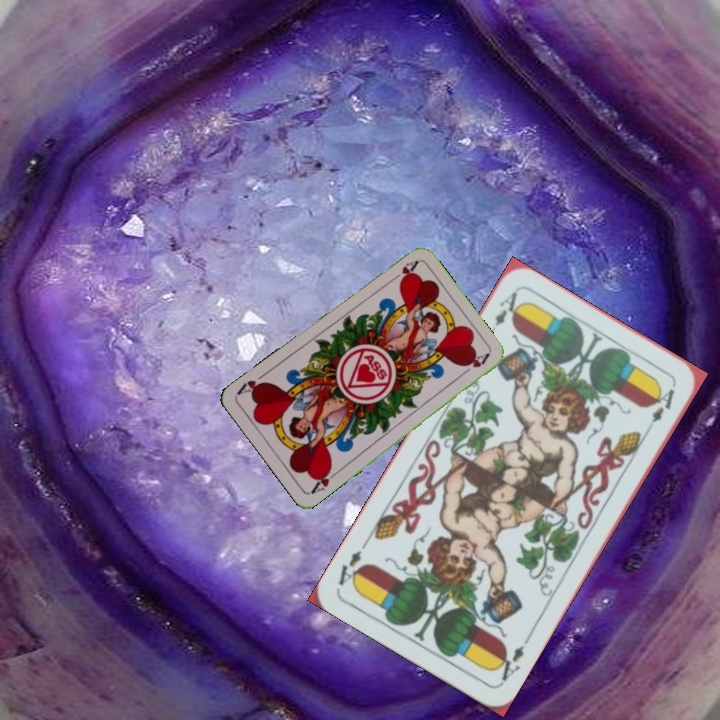EA: (491, 641, 528, 686), (490, 288, 523, 329)
HA: (306, 464, 342, 497), (384, 256, 420, 285)
